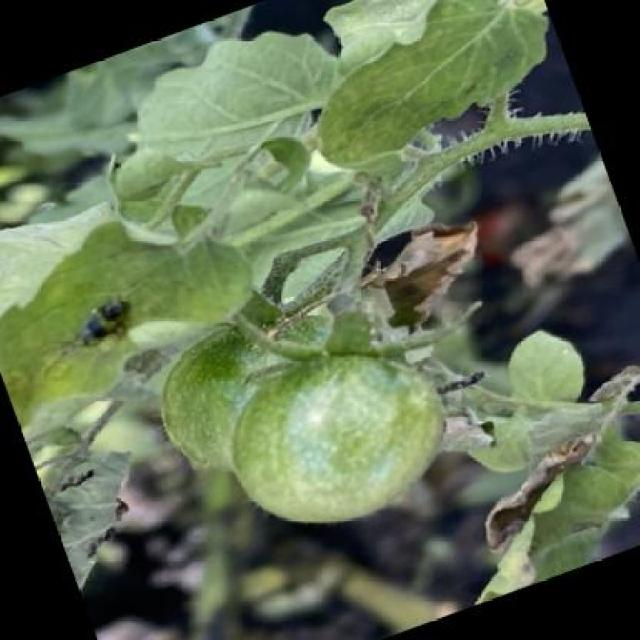unripe tomato: (204, 318, 471, 550), (138, 286, 376, 483)
